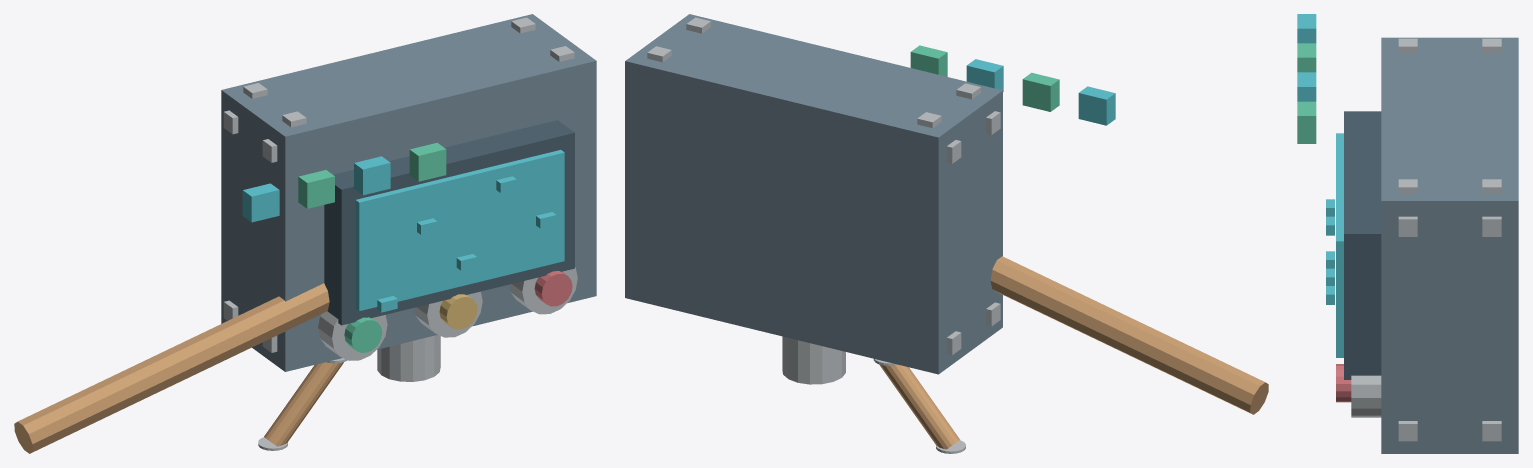
File: 45_L79_BondTemperatureSensor.glb
3 renders of one model, left to right at view 1: azimuth 30°, elevation 25°; view 2: azimuth 150°, elevation 25°; view 3: azimuth 270°, elevation 25°, orthographic. The views are drawn at different scales.
Parts seen in each view (by area): view 1: BondTemperatureSensor_Node_0000, BondTemperatureSensor_Node_0010, BondTemperatureSensor_Node_0009, BondTemperatureSensor_Node_0026, BondTemperatureSensor_Node_0022, BondTemperatureSensor_Node_0023, BondTemperatureSensor_Node_0016, BondTemperatureSensor_Node_0027, BondTemperatureSensor_Node_0030, BondTemperatureSensor_Node_0029, BondTemperatureSensor_Node_0028, BondTemperatureSensor_Node_0018 (+4 smaller); view 2: BondTemperatureSensor_Node_0000, BondTemperatureSensor_Node_0026, BondTemperatureSensor_Node_0022, BondTemperatureSensor_Node_0023, BondTemperatureSensor_Node_0027, BondTemperatureSensor_Node_0028, BondTemperatureSensor_Node_0029, BondTemperatureSensor_Node_0030; view 3: BondTemperatureSensor_Node_0000, BondTemperatureSensor_Node_0009, BondTemperatureSensor_Node_0010, BondTemperatureSensor_Node_0020, BondTemperatureSensor_Node_0030, BondTemperatureSensor_Node_0029, BondTemperatureSensor_Node_0027, BondTemperatureSensor_Node_0028, BondTemperatureSensor_Node_0021, BondTemperatureSensor_Node_0001, BondTemperatureSensor_Node_0003, BondTemperatureSensor_Node_0002 (+5 smaller).
Part boxes in pixels (x1,y1,x2,y2): BondTemperatureSensor_Node_0000: (221, 14, 596, 371); BondTemperatureSensor_Node_0010: (355, 150, 564, 311); BondTemperatureSensor_Node_0009: (324, 120, 574, 325); BondTemperatureSensor_Node_0026: (14, 283, 329, 453); BondTemperatureSensor_Node_0022: (377, 335, 440, 381); BondTemperatureSensor_Node_0023: (264, 362, 343, 446); BondTemperatureSensor_Node_0016: (318, 311, 387, 360); BondTemperatureSensor_Node_0027: (242, 183, 279, 222); BondTemperatureSensor_Node_0030: (409, 142, 446, 181); BondTemperatureSensor_Node_0029: (354, 156, 390, 195); BondTemperatureSensor_Node_0028: (298, 170, 334, 208); BondTemperatureSensor_Node_0018: (414, 291, 482, 337); BondTemperatureSensor_Node_0000: (625, 14, 1002, 374); BondTemperatureSensor_Node_0026: (990, 256, 1268, 414); BondTemperatureSensor_Node_0022: (782, 336, 845, 384); BondTemperatureSensor_Node_0023: (879, 364, 959, 449); BondTemperatureSensor_Node_0027: (1078, 86, 1115, 125); BondTemperatureSensor_Node_0028: (1022, 72, 1059, 111); BondTemperatureSensor_Node_0029: (966, 59, 1003, 91); BondTemperatureSensor_Node_0030: (910, 45, 947, 76); BondTemperatureSensor_Node_0000: (1381, 37, 1518, 453); BondTemperatureSensor_Node_0009: (1344, 111, 1381, 379); BondTemperatureSensor_Node_0010: (1336, 133, 1343, 357); BondTemperatureSensor_Node_0020: (1351, 375, 1381, 417); BondTemperatureSensor_Node_0030: (1297, 101, 1316, 143); BondTemperatureSensor_Node_0029: (1297, 72, 1316, 101); BondTemperatureSensor_Node_0027: (1297, 14, 1316, 43); BondTemperatureSensor_Node_0028: (1297, 43, 1316, 72); BondTemperatureSensor_Node_0021: (1336, 364, 1351, 402); BondTemperatureSensor_Node_0001: (1482, 421, 1501, 441); BondTemperatureSensor_Node_0003: (1482, 216, 1501, 236); BondTemperatureSensor_Node_0002: (1398, 421, 1417, 441).
Size of the model in its own units: 0.9362 by 0.5377 by 0.2889.
